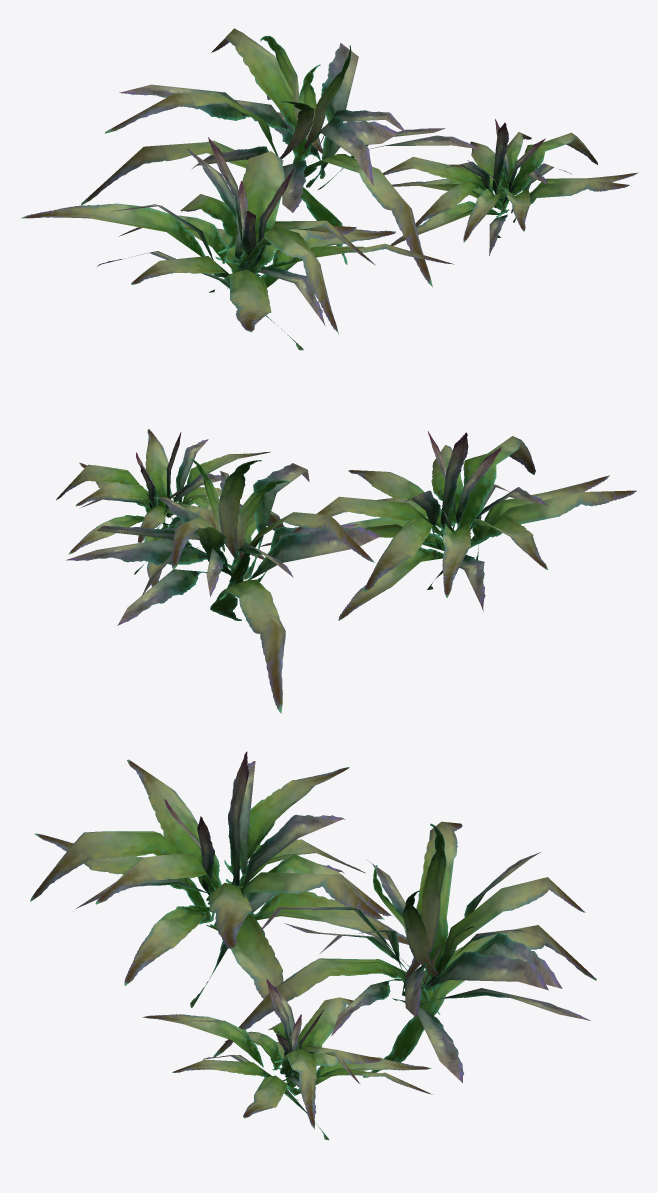
The model's file is S_Plant_Green003.FBX.
3 renders of one model, top to bottom at view 1: azimuth 30°, elevation 25°; view 2: azimuth 150°, elevation 25°; view 3: azimuth 270°, elevation 25°, orthographic. The views are drawn at different scales.
Visible parts, largest first — view 1: S_Plant_Green003; view 2: S_Plant_Green003; view 3: S_Plant_Green003.
Boxes of the visible parts, x1,y1,x2,y2 form: S_Plant_Green003: [21, 28, 638, 350]; S_Plant_Green003: [56, 429, 636, 713]; S_Plant_Green003: [30, 751, 596, 1140].
Bounding box in the file's own units: 582 × 513 × 215.
